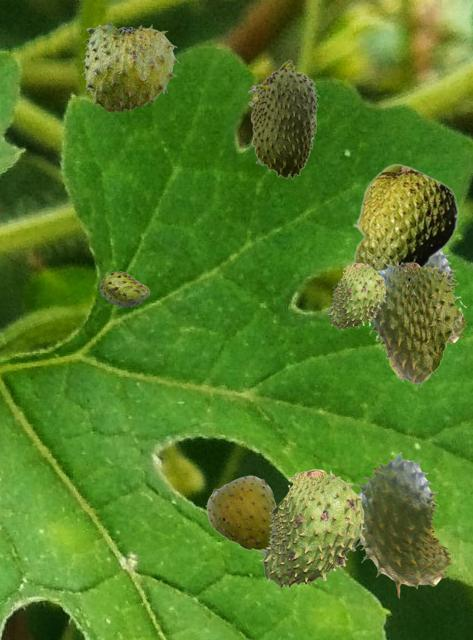guyabano: (353, 452, 451, 597), (258, 469, 364, 588), (352, 163, 458, 279), (368, 261, 466, 386), (81, 20, 178, 112), (248, 59, 319, 178), (205, 475, 276, 551), (326, 263, 385, 329), (427, 250, 466, 344), (99, 271, 149, 306)
